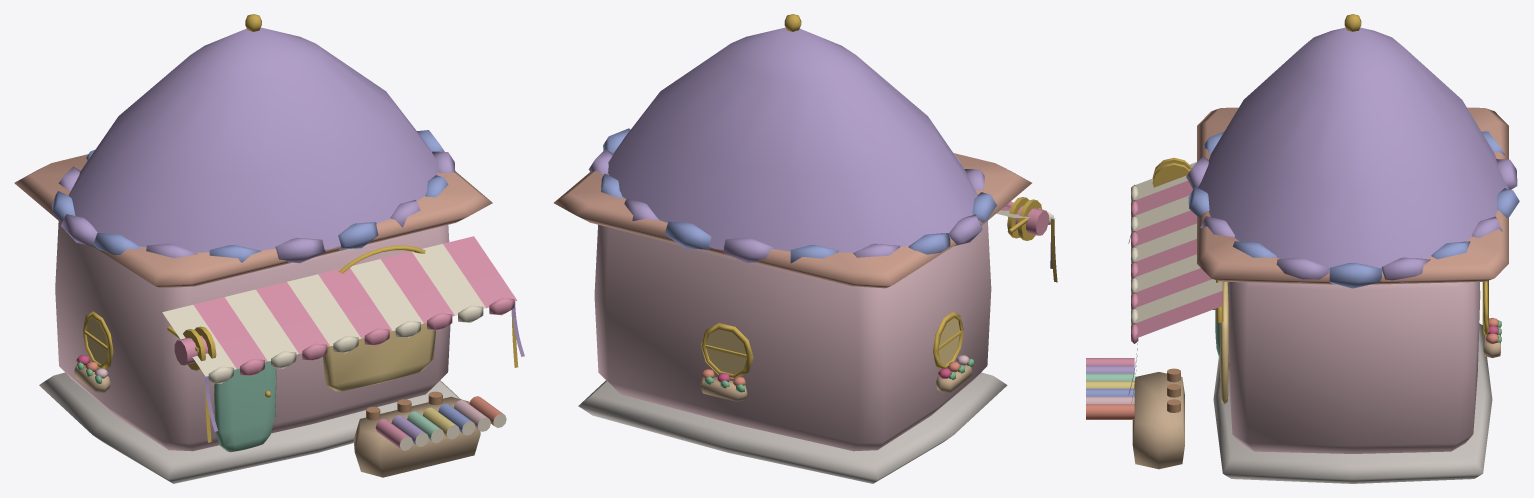
Rendered from fae_seamstress_shop.gltf.
3 renders of one model, left to right at view 1: azimuth 30°, elevation 25°; view 2: azimuth 150°, elevation 25°; view 3: azimuth 270°, elevation 25°, orthographic.
Parts seen in each view (by area): view 1: fae_seamstress_shop; view 2: fae_seamstress_shop; view 3: fae_seamstress_shop.
Part boxes in pixels (x1,y1,x2,y2): fae_seamstress_shop: [14, 14, 524, 483]; fae_seamstress_shop: [554, 14, 1057, 483]; fae_seamstress_shop: [1086, 14, 1519, 483].
Size of what is drawn, in the model's own units: 7.14 by 7.21 by 7.15.
